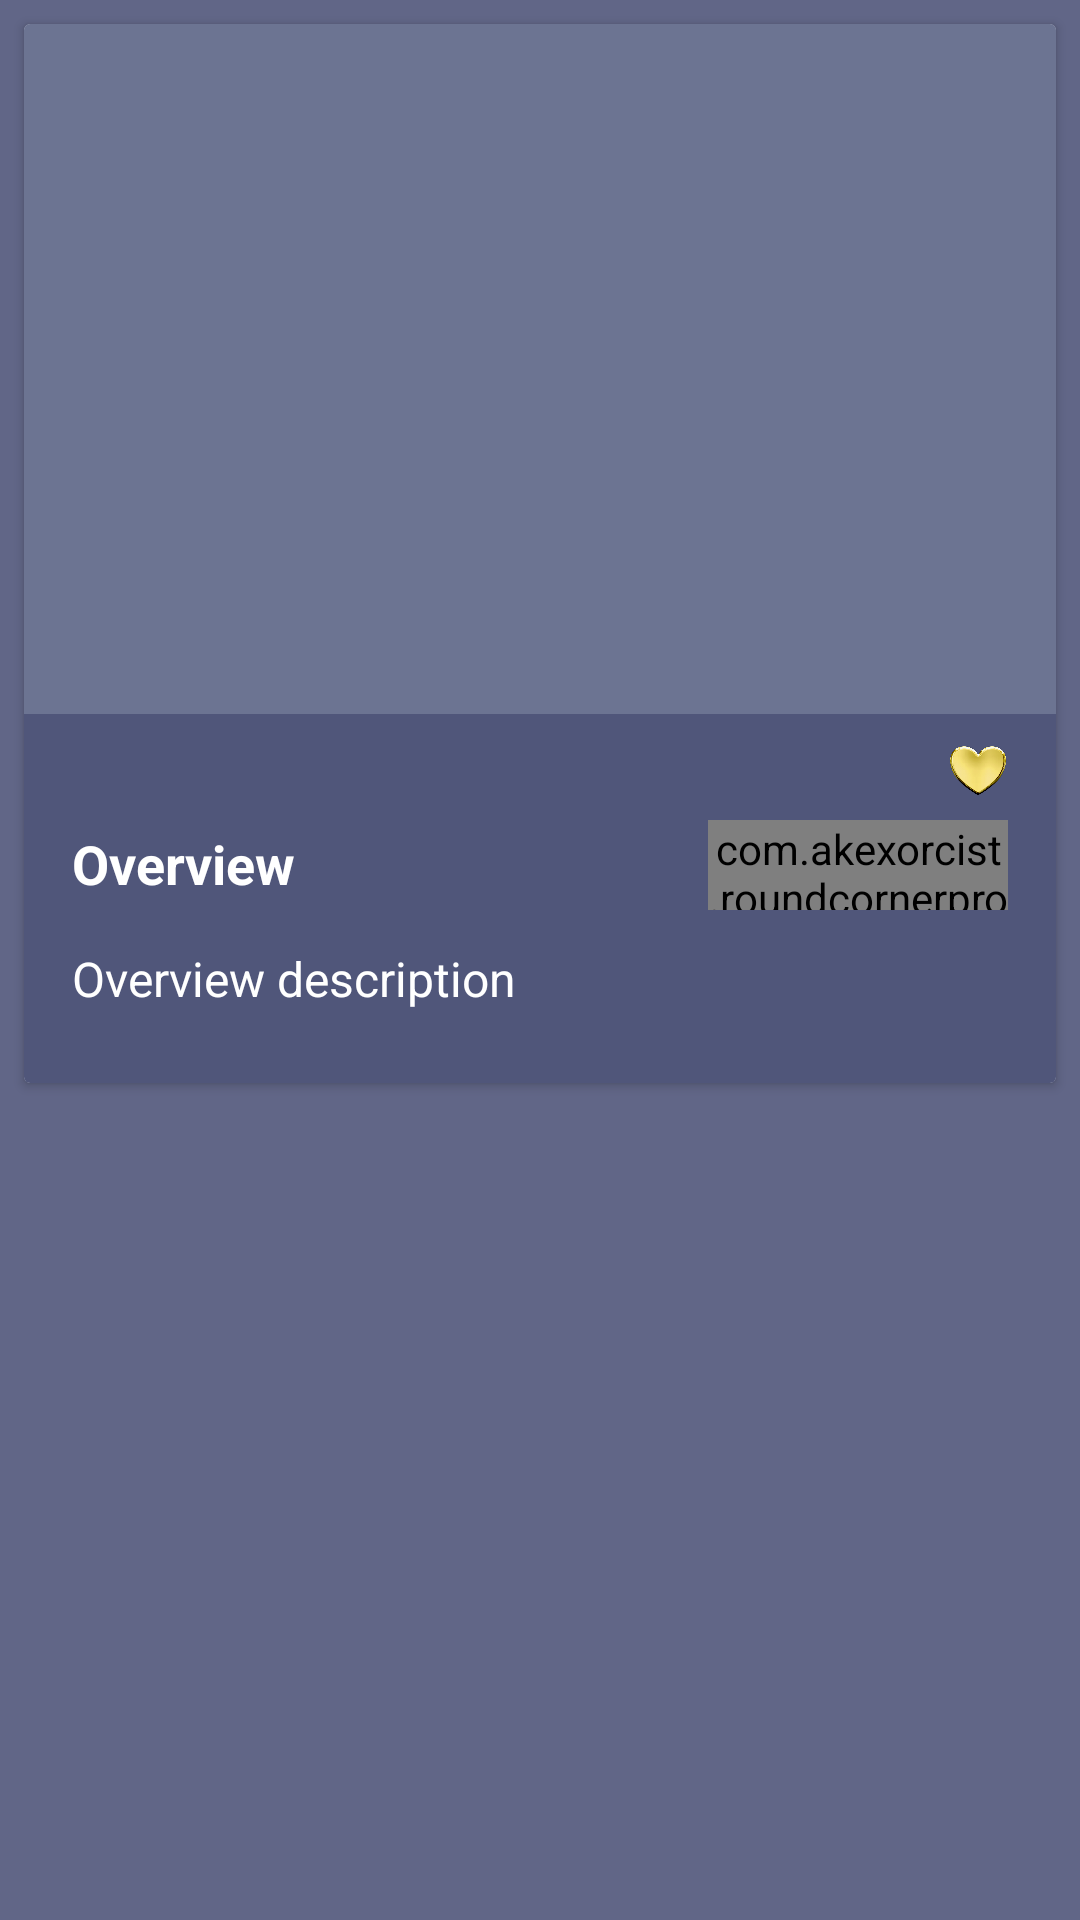

Locate icon controls on the screen. Image size 1080px x 1920px, boxes as {"x1": x1, "y1": y1, "x2": x2, "y2": y2}.
love: {"x1": 950, "y1": 746, "x2": 1006, "y2": 795}
